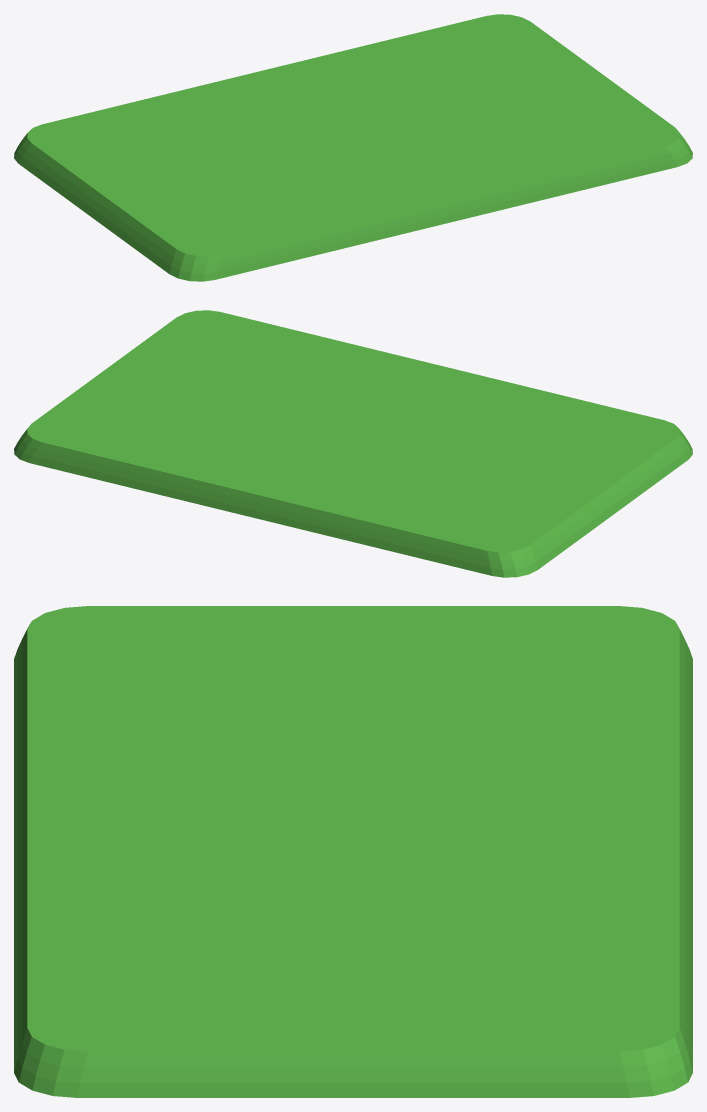
File: stand.glb
The picture shows the model from 3 angles, top to bottom: view 1: azimuth 30°, elevation 25°; view 2: azimuth 150°, elevation 25°; view 3: azimuth 270°, elevation 25°; orthographic projection. The views are drawn at different scales.
Parts seen in each view (by area): view 1: Plane; view 2: Plane; view 3: Plane.
Boxes of the visible parts, <box> form: Plane: <box>14,14,692,281</box>; Plane: <box>14,310,692,577</box>; Plane: <box>14,606,692,1097</box>.
Size of the model in its own units: 399 by 14.96 by 247.
